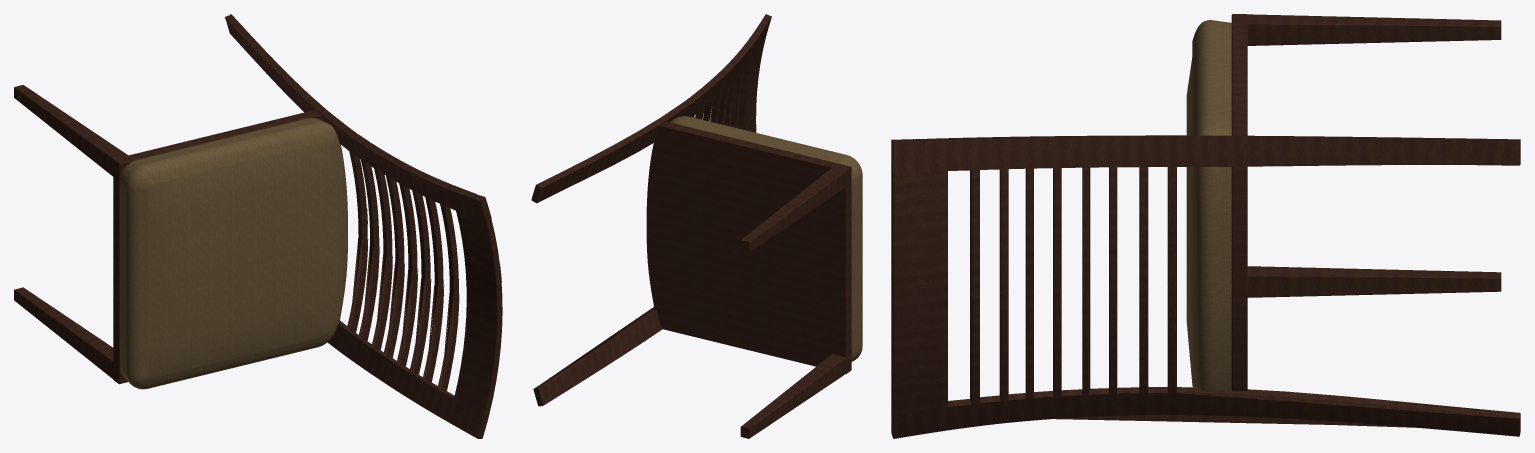
The model's file is DinnerChair02.fbx.dae.
3 views of the same model, side by side, from view 1: azimuth 30°, elevation 25°; view 2: azimuth 150°, elevation 25°; view 3: azimuth 270°, elevation 25° (orthographic). The views are drawn at different scales.
Parts seen in each view (by area): view 1: Rectangle291, Line290, matrixTransform, DinnerChair02, Rectangle288, Rectangle289, Rectangle290; view 2: Rectangle288, Line290, Rectangle291, Rectangle289, Rectangle290, matrixTransform, DinnerChair02; view 3: Line290, matrixTransform, Rectangle291, DinnerChair02, Rectangle289, Rectangle290, Rectangle288.
Part boxes in pixels (box(x1,y1,x2,y2)): Rectangle291: box(120, 118, 347, 389); Line290: box(225, 14, 501, 438); matrixTransform: box(349, 151, 458, 390); DinnerChair02: box(454, 211, 502, 414); Rectangle288: box(113, 109, 323, 384); Rectangle289: box(14, 85, 128, 176); Rectangle290: box(14, 287, 113, 378); Rectangle288: box(646, 121, 851, 373); Line290: box(531, 14, 771, 406); Rectangle291: box(670, 116, 862, 361); Rectangle289: box(740, 167, 846, 252); Rectangle290: box(740, 354, 846, 438); matrixTransform: box(692, 65, 746, 128); DinnerChair02: box(738, 37, 765, 132); Line290: box(891, 135, 1520, 438); matrixTransform: box(970, 167, 1176, 404); Rectangle291: box(1186, 20, 1231, 391); DinnerChair02: box(891, 171, 947, 414); Rectangle289: box(1247, 14, 1501, 45); Rectangle290: box(1247, 266, 1501, 297); Rectangle288: box(1231, 14, 1247, 390).
Bounding box in the file's own units: 22.42 × 20.79 × 39.54.
Materials: 2 (2 with a texture image).
